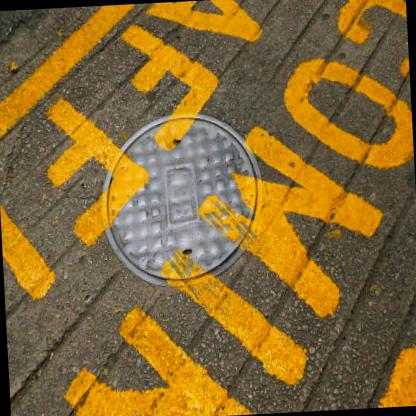manholes: (70, 79, 275, 302)
